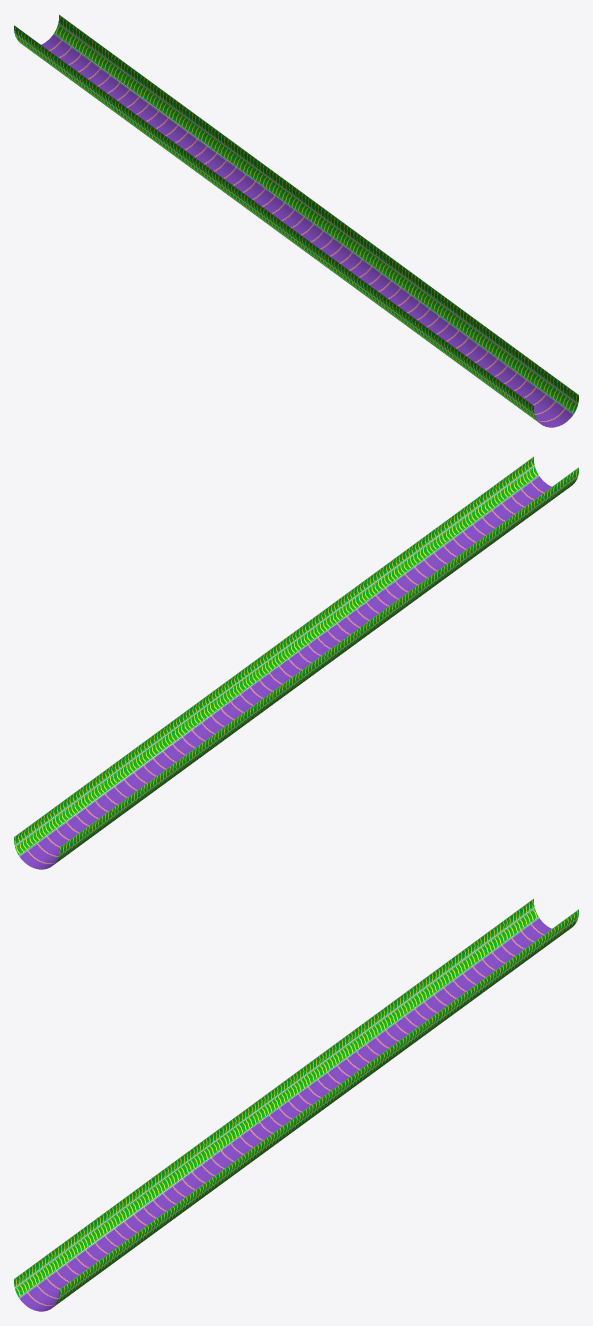
The model's file is track-halfpipe.glb.
3 renders of one model, top to bottom at view 1: azimuth 30°, elevation 25°; view 2: azimuth 150°, elevation 25°; view 3: azimuth 330°, elevation 25°, orthographic.
Parts seen in each view (by area): view 1: track1; view 2: track1; view 3: track1.
Boxes of the visible parts, box(x1,y1,x2,y2) form: track1: box(14, 14, 578, 427); track1: box(14, 456, 578, 869); track1: box(14, 898, 578, 1311).
Size of the model in its own units: 10 by 5.65 by 200.
1 material, 1 textured.
